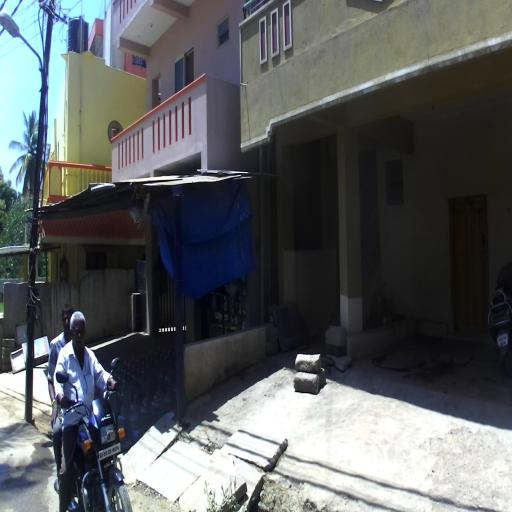street_light_0: (0, 14, 48, 102)
